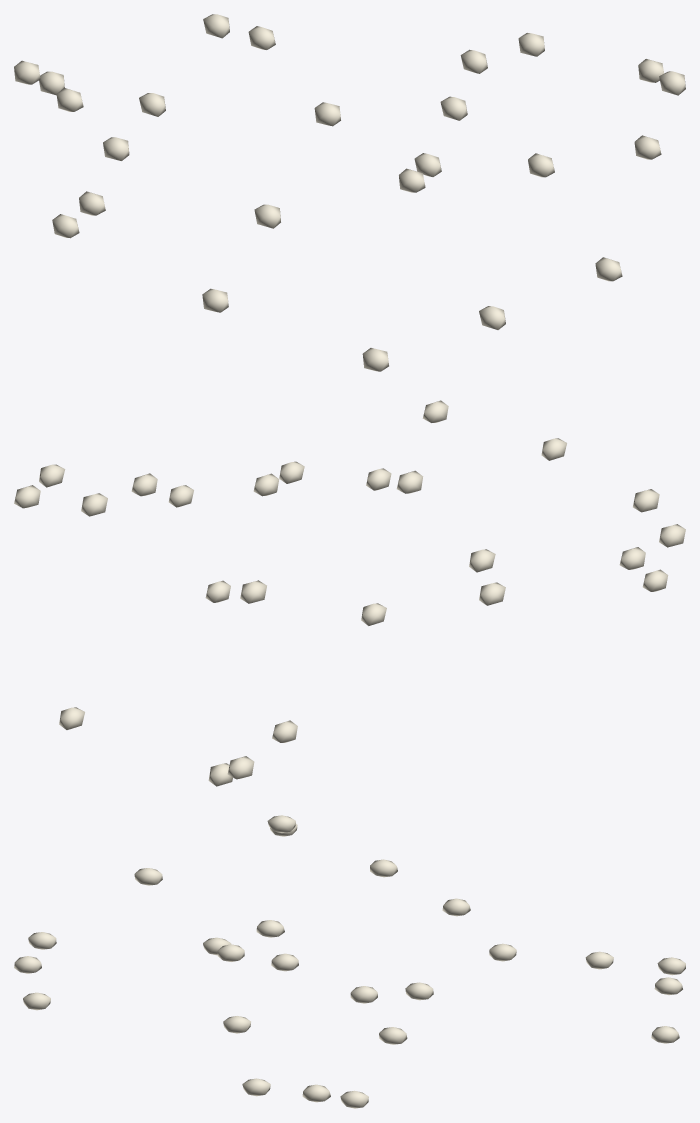
File: sides-onion-chili.glb
3 views of the same model, one above another, from view 1: azimuth 30°, elevation 25°; view 2: azimuth 150°, elevation 25°; view 3: azimuth 270°, elevation 25° (orthographic). The views are drawn at different scales.
Visible parts, largest first — view 1: Fresh chopped onion; view 2: Fresh chopped onion; view 3: Fresh chopped onion.
Boxes of the visible parts, x1,y1,x2,y2 form: Fresh chopped onion: (14,14,685,371); Fresh chopped onion: (14,400,685,786); Fresh chopped onion: (14,815,685,1108).
Size of the model in its own units: 1.34 by 0.2596 by 1.49.
